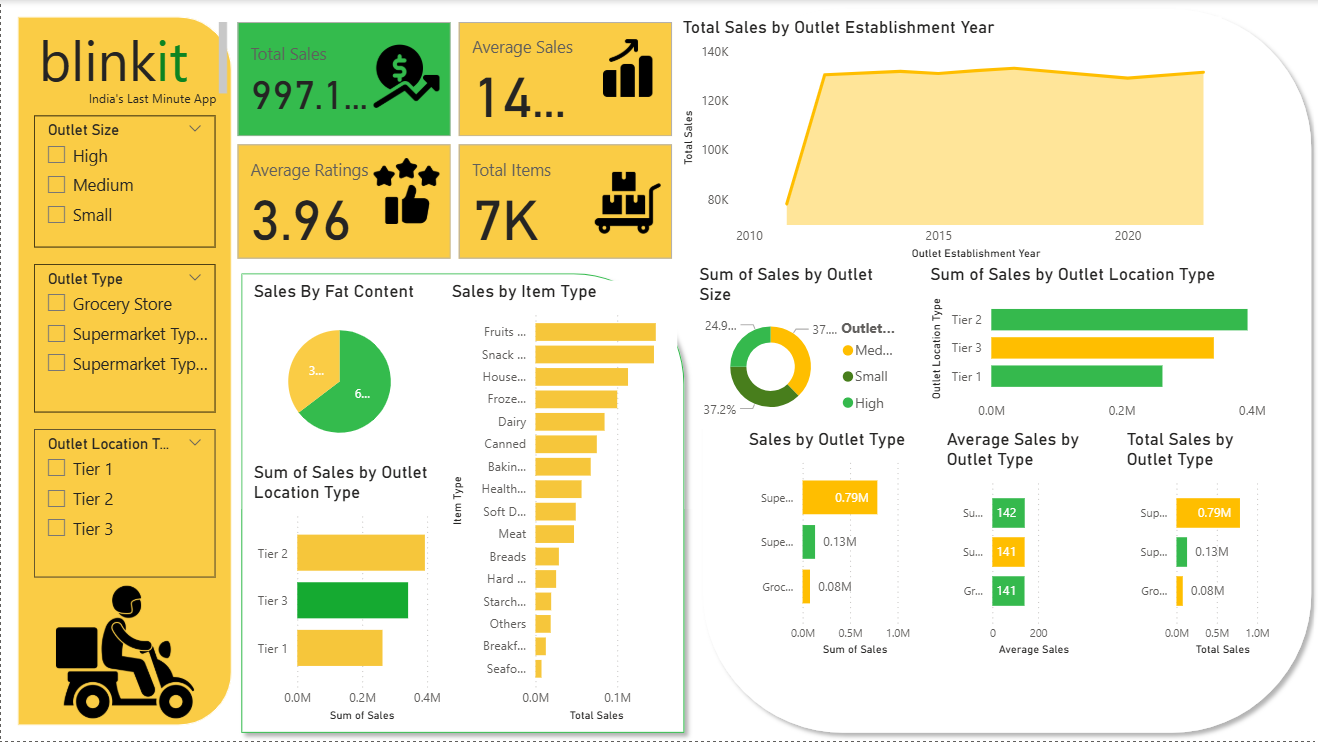

The page's visual inventory and layout, read from the dashboard file:
{"tool":"powerbi","page":{"name":"Page 1","canvas":[1280,720],"ordinal":0},"visuals":[{"type":"shape","box":[16,16,208,688],"z":0},{"type":"textbox","box":[32,16,192,80],"z":1000},{"type":"textbox","box":[80,80,176,32],"z":2000},{"type":"cardVisual","fields":{"Data":["Blinkitfile.Total Sales","Blinkitfile.Average Sales","Blinkitfile.Average Ratings","Blinkitfile.Total Items"]},"box":[224,16,432,240],"z":3000},{"type":"slicer","fields":{"Values":["Blinkitfile.Outlet Size"]},"box":[32,112,176,128],"z":4000},{"type":"slicer","fields":{"Values":["Blinkitfile.Outlet Type"]},"box":[32,256,176,144],"z":5000},{"type":"slicer","fields":{"Values":["Blinkitfile.Outlet Location Type"]},"box":[32,416,176,144],"z":6000},{"type":"shape","box":[224,256,448,464],"z":7000},{"type":"pieChart","title":"Sales By Fat Content","fields":{"Y":["Sum(Blinkitfile.Sales)"],"Category":["Blinkitfile.Item Fat Content"]},"box":[240,272,176,176],"z":8000},{"type":"barChart","fields":{"Category":["Blinkitfile.Outlet Location Type"],"Y":["Sum(Blinkitfile.Sales)"]},"box":[240,448,192,256],"z":9000},{"type":"barChart","title":"Sales by Item Type","fields":{"Y":["Blinkitfile.Total Sales"],"Category":["Blinkitfile.Item Type"]},"box":[432,272,224,432],"z":10000},{"type":"shape","box":[672,0,608,720],"z":11000},{"type":"barChart","title":"Sales by Outlet Type","fields":{"Y":["Sum(Blinkitfile.Sales)"],"Category":["Blinkitfile.Outlet Type"]},"box":[720,416,176,224],"z":12000},{"type":"areaChart","fields":{"Y":["Blinkitfile.Total Sales"],"Category":["Blinkitfile.Outlet Establishment Year"]},"box":[656,16,528,240],"z":13000},{"type":"donutChart","fields":{"Category":["Blinkitfile.Outlet Size"],"Y":["Sum(Blinkitfile.Sales)"]},"box":[672,256,208,160],"z":14000},{"type":"barChart","fields":{"Category":["Blinkitfile.Outlet Location Type"],"Y":["Sum(Blinkitfile.Sales)"]},"box":[896,256,336,160],"z":15000},{"type":"barChart","fields":{"Y":["Blinkitfile.Average Sales"],"Category":["Blinkitfile.Outlet Type"]},"box":[912,416,144,224],"z":16000},{"type":"barChart","fields":{"Category":["Blinkitfile.Outlet Type"],"Y":["Blinkitfile.Total Sales"]},"box":[1088,416,160,224],"z":17000},{"type":"image","box":[16,560,208,144],"z":17001}]}

Visuals, with their boxes in screenshot pixels (x1, y1, x2, y2), scaled from the page's 1280x720 canvas onto the 1318x742 screenshot:
shape: (x1=16, y1=16, x2=231, y2=726)
textbox: (x1=33, y1=16, x2=231, y2=99)
textbox: (x1=82, y1=82, x2=264, y2=115)
cardVisual - Blinkitfile.Total Sales x Blinkitfile.Average Sales: (x1=231, y1=16, x2=675, y2=264)
slicer - Blinkitfile.Outlet Size: (x1=33, y1=115, x2=214, y2=247)
slicer - Blinkitfile.Outlet Type: (x1=33, y1=264, x2=214, y2=412)
slicer - Blinkitfile.Outlet Location Type: (x1=33, y1=429, x2=214, y2=577)
shape: (x1=231, y1=264, x2=692, y2=741)
"Sales By Fat Content" pieChart: (x1=247, y1=280, x2=428, y2=462)
barChart - Blinkitfile.Outlet Location Type x Sum(Blinkitfile.Sales): (x1=247, y1=462, x2=445, y2=726)
"Sales by Item Type" barChart: (x1=445, y1=280, x2=675, y2=726)
shape: (x1=692, y1=0, x2=1317, y2=741)
"Sales by Outlet Type" barChart: (x1=741, y1=429, x2=923, y2=660)
areaChart - Blinkitfile.Total Sales x Blinkitfile.Outlet Establishment Year: (x1=675, y1=16, x2=1219, y2=264)
donutChart - Blinkitfile.Outlet Size x Sum(Blinkitfile.Sales): (x1=692, y1=264, x2=906, y2=429)
barChart - Blinkitfile.Outlet Location Type x Sum(Blinkitfile.Sales): (x1=923, y1=264, x2=1269, y2=429)
barChart - Blinkitfile.Average Sales x Blinkitfile.Outlet Type: (x1=939, y1=429, x2=1087, y2=660)
barChart - Blinkitfile.Outlet Type x Blinkitfile.Total Sales: (x1=1120, y1=429, x2=1285, y2=660)
image: (x1=16, y1=577, x2=231, y2=726)
